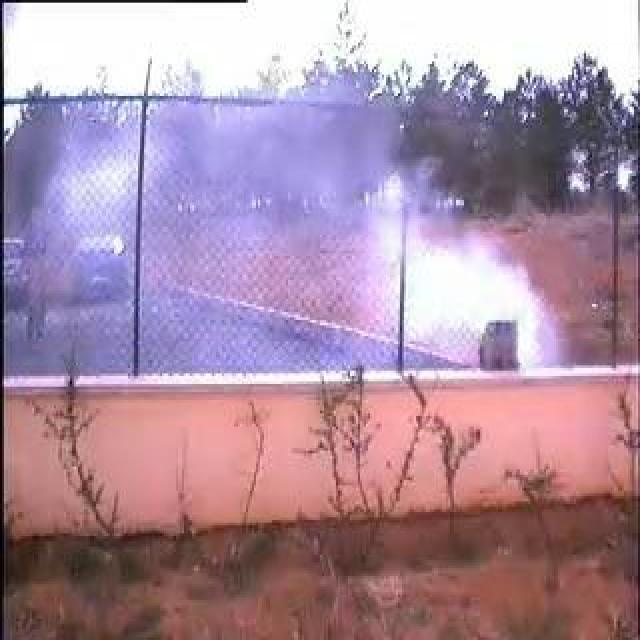Smoke: (50, 121, 556, 367)
